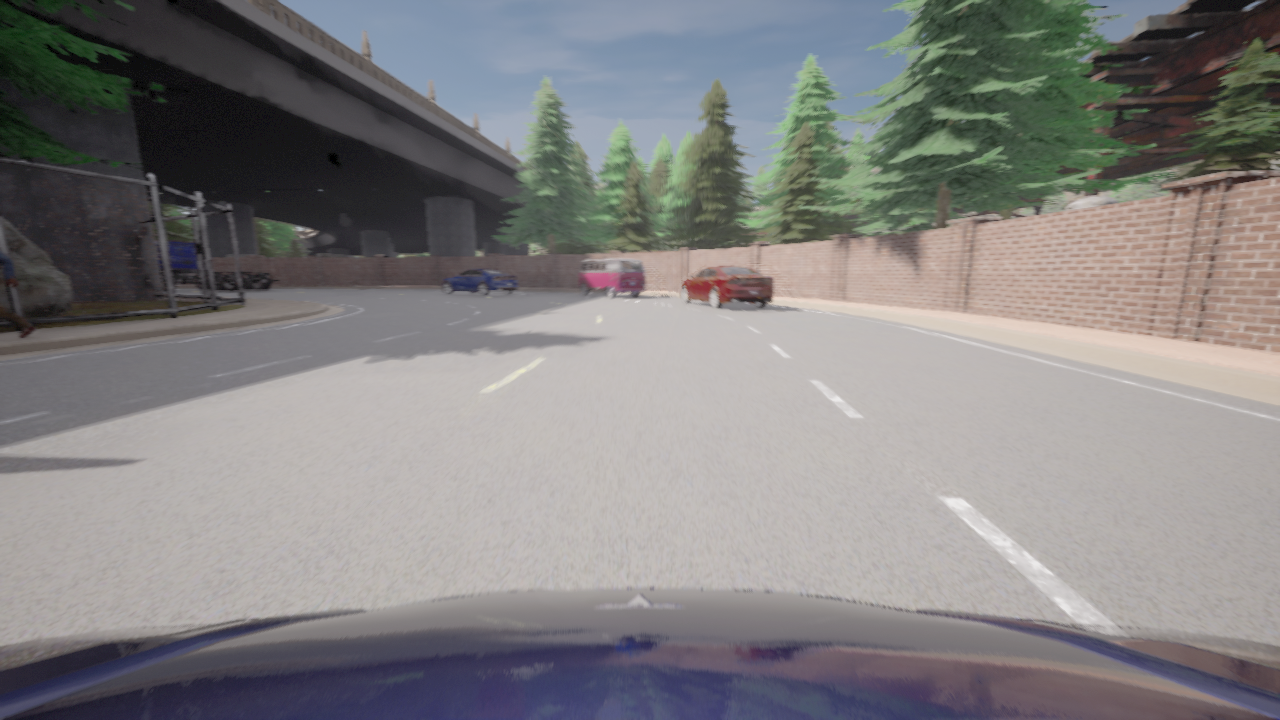cyclist: (0, 588, 1279, 719), (154, 241, 279, 290), (680, 264, 772, 308), (576, 258, 644, 297), (442, 267, 517, 295)
